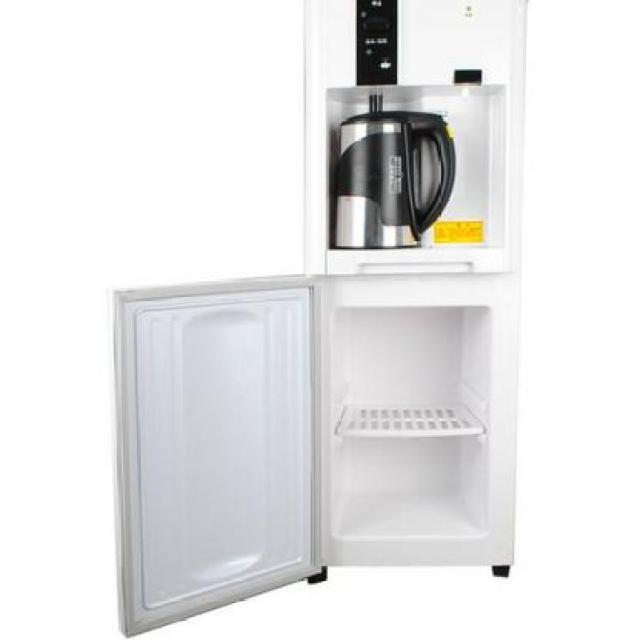cooler: (302, 0, 530, 592)
